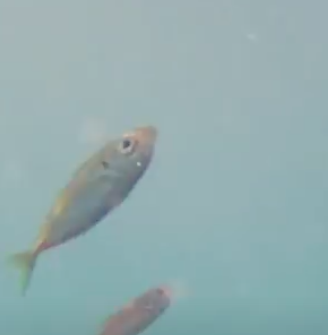azi: (7, 114, 156, 288)
